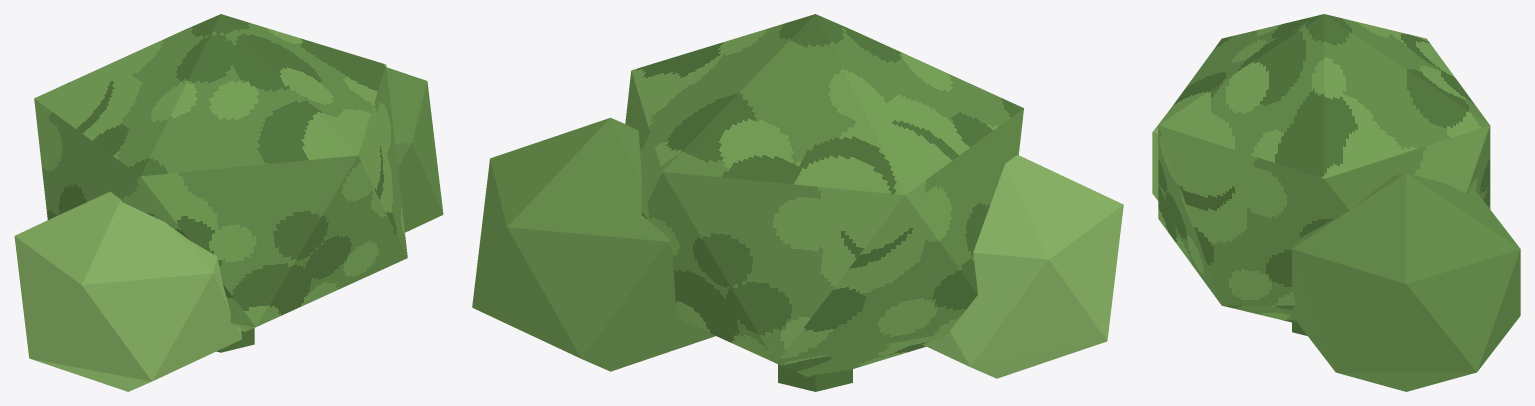
The model's file is bush.glb.
3 renders of one model, left to right at view 1: azimuth 30°, elevation 25°; view 2: azimuth 150°, elevation 25°; view 3: azimuth 270°, elevation 25°, orthographic. The views are drawn at different scales.
Parts seen in each view (by area): view 1: Bush; view 2: Bush; view 3: Bush.
Part boxes in pixels (box(x1,y1,x2,y2)): Bush: box(14, 14, 443, 391); Bush: box(472, 14, 1123, 391); Bush: box(1152, 14, 1520, 391).
Size of the model in its own units: 1.42 by 0.935 by 0.9869.
Materials: 1 (1 with a texture image).
